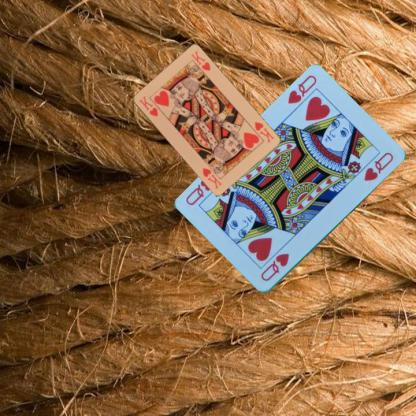Kh: (251, 119, 275, 144), (136, 93, 159, 118)
Qh: (285, 72, 318, 106), (258, 251, 291, 283)
